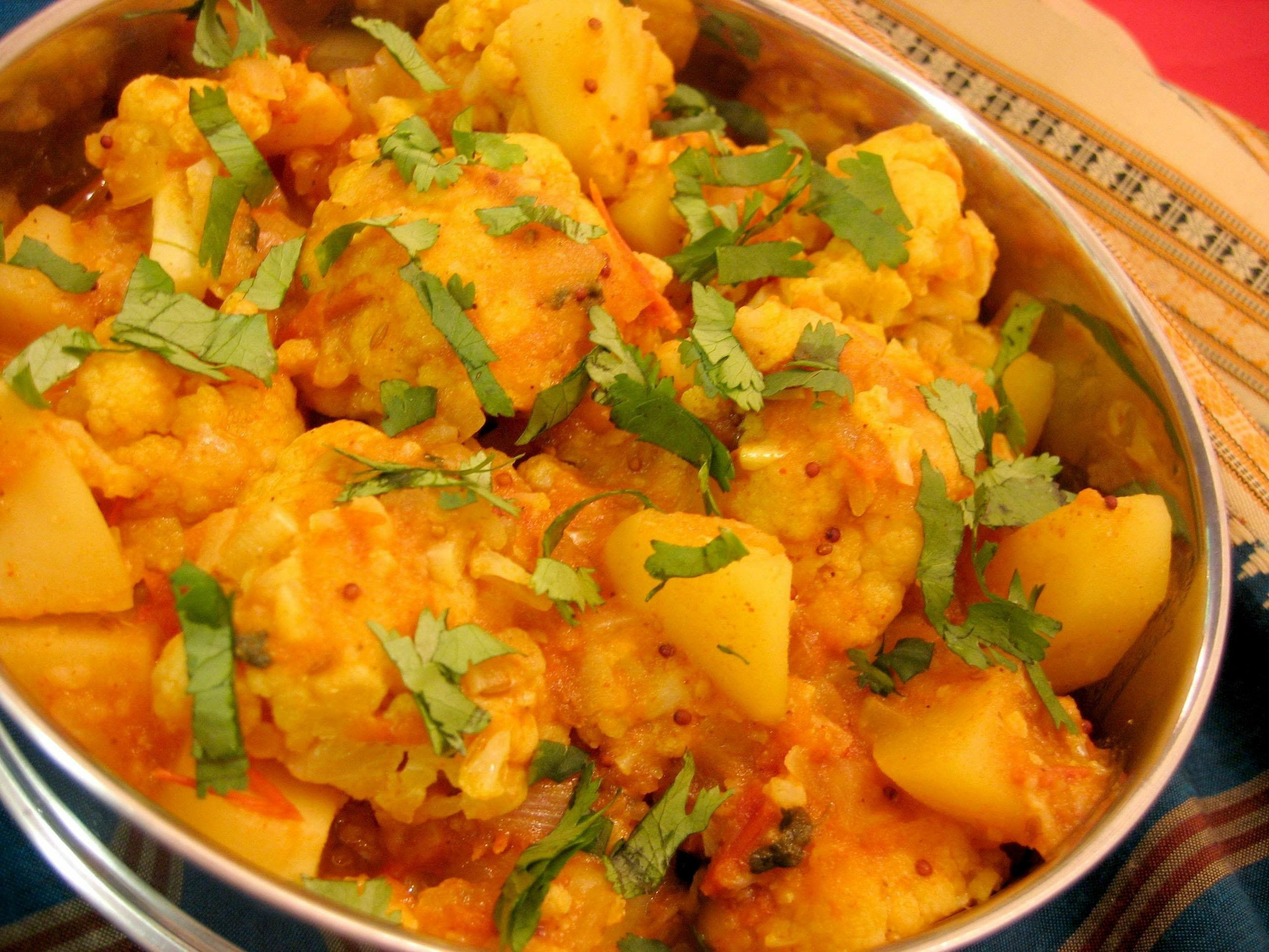AlooGobi: (0, 0, 1176, 952)
